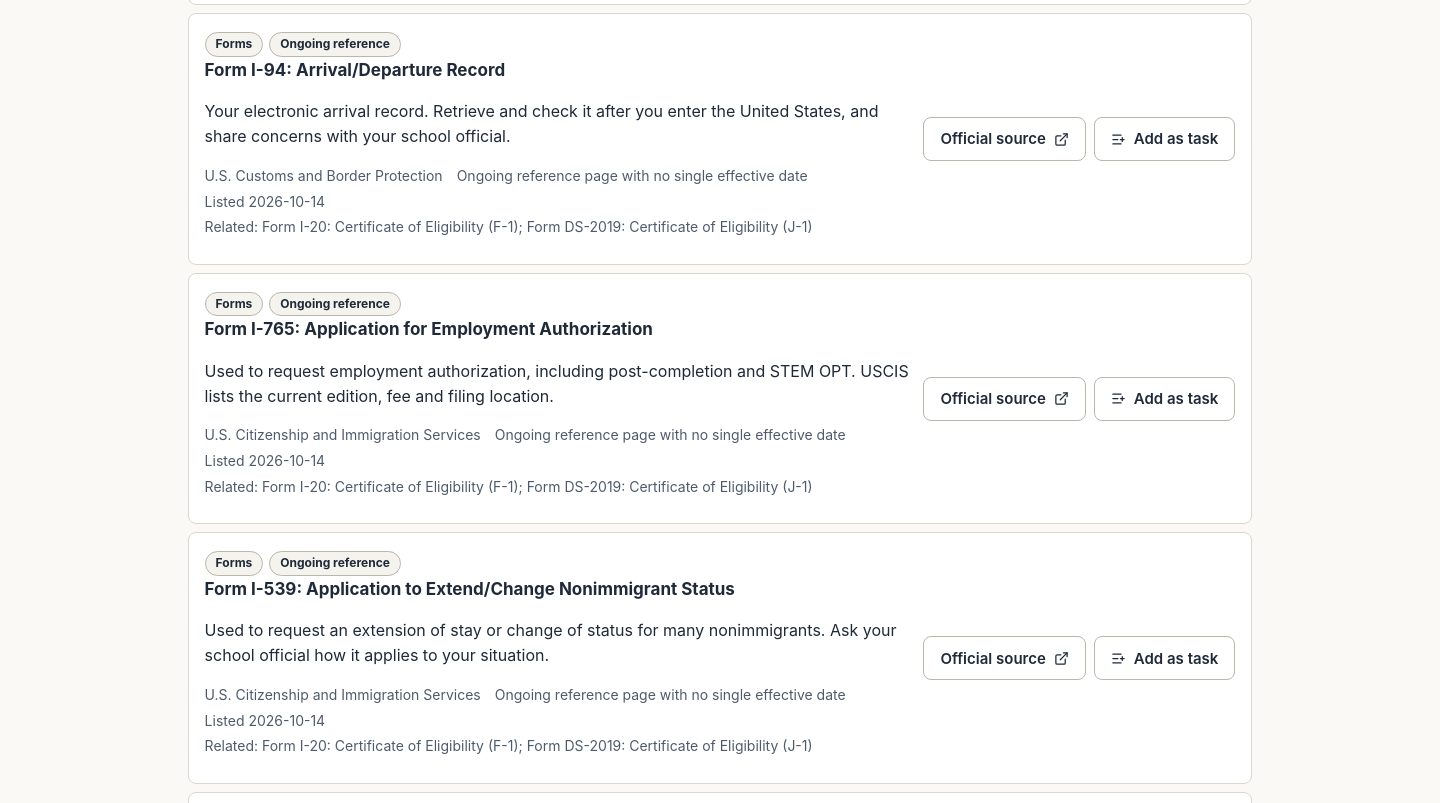
RulesPage › adds a linked review task and reports it
(page scrolled)
Click the button with aria-label "Add a task to review Form I-765" at (1165, 399), box [1094, 377, 1235, 421]
(page scrolled)
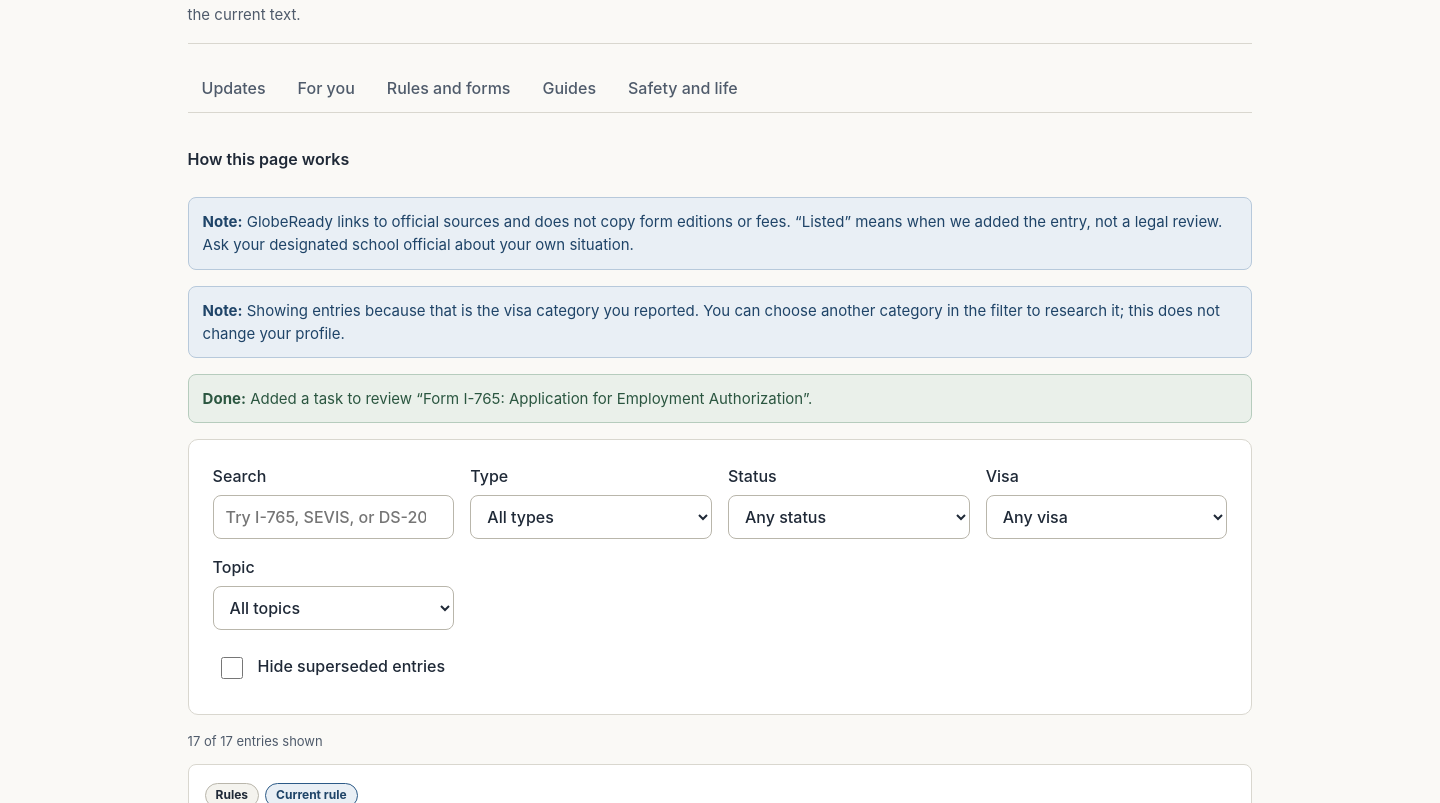
Check: the text "Added a task to review" is shown, box [250, 389, 812, 408]
